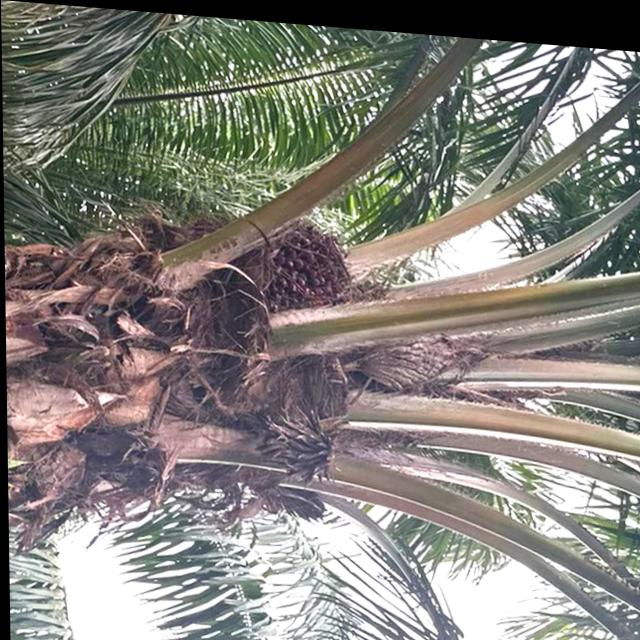ripe: (258, 215, 365, 321)
